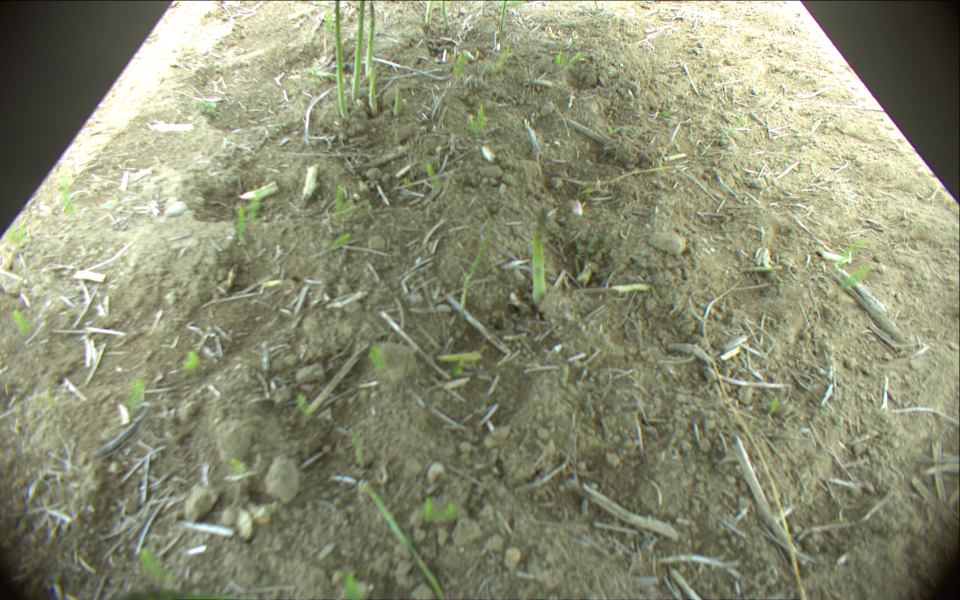aspa: (360, 484, 445, 600), (332, 1, 349, 119), (531, 201, 550, 303), (351, 1, 366, 100), (365, 1, 376, 79), (393, 85, 405, 118), (369, 76, 379, 113), (424, 1, 435, 25), (441, 1, 448, 29), (501, 1, 507, 30)
